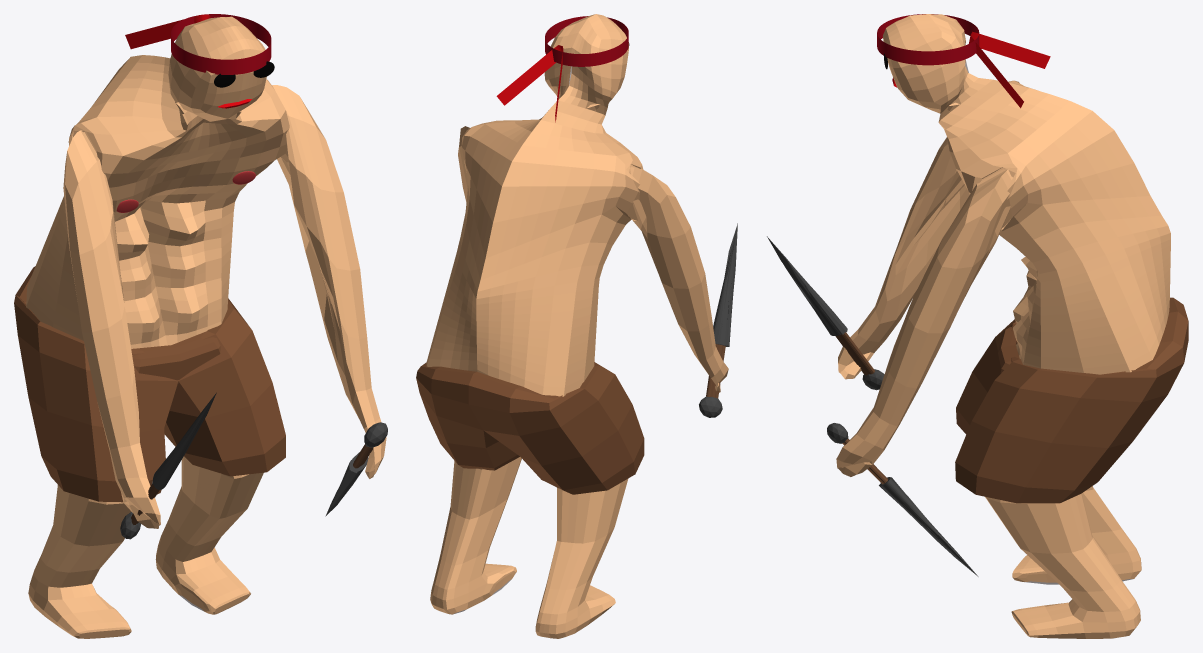
File: pravěk_nožiky.fbx
3 views of the same model, side by side, from view 1: azimuth 30°, elevation 25°; view 2: azimuth 150°, elevation 25°; view 3: azimuth 270°, elevation 25° (orthographic). The views are drawn at different scales.
Visible parts, largest first — view 1: Cube, Cube.002, BezierCircle, Cylinder, Cylinder.001, NurbsPath; view 2: Cube, Cube.002, Cylinder, BezierCircle, NurbsPath; view 3: Cube, Cube.002, Cylinder, BezierCircle, Cylinder.001, NurbsPath.
Boxes of the visible parts, x1=… form: Cube: x1=26, y1=16, x2=386, y2=638; Cube.002: x1=14, y1=266, x2=285, y2=502; BezierCircle: x1=171, y1=14, x2=271, y2=74; Cylinder: x1=120, y1=392, x2=216, y2=539; Cylinder.001: x1=325, y1=422, x2=387, y2=516; NurbsPath: x1=125, y1=14, x2=210, y2=49; Cube: x1=426, y1=14, x2=728, y2=638; Cube.002: x1=416, y1=362, x2=644, y2=494; Cylinder: x1=699, y1=223, x2=737, y2=417; BezierCircle: x1=545, y1=16, x2=628, y2=66; NurbsPath: x1=496, y1=45, x2=563, y2=122; Cube: x1=836, y1=14, x2=1170, y2=638; Cube.002: x1=955, y1=297, x2=1188, y2=503; Cylinder: x1=767, y1=236, x2=884, y2=390; BezierCircle: x1=877, y1=14, x2=979, y2=65; Cylinder.001: x1=827, y1=423, x2=978, y2=576; NurbsPath: x1=969, y1=31, x2=1050, y2=108.
Bounding box in the file's own units: 121 × 275 × 178.
